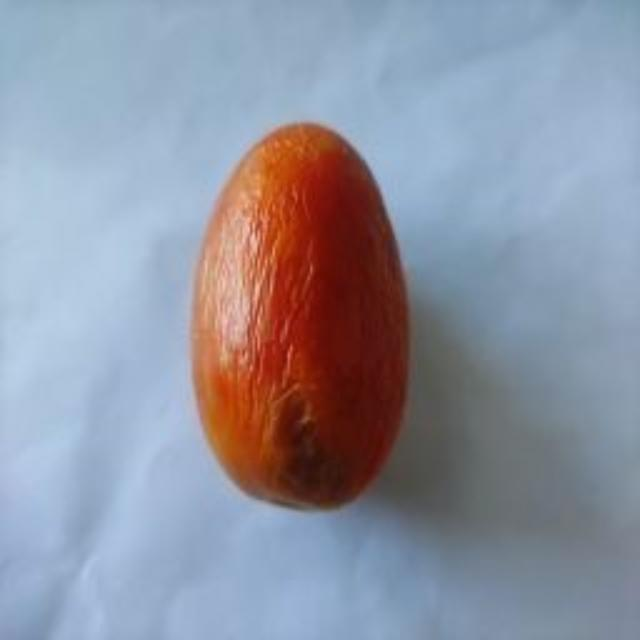defect: (184, 110, 428, 515)
